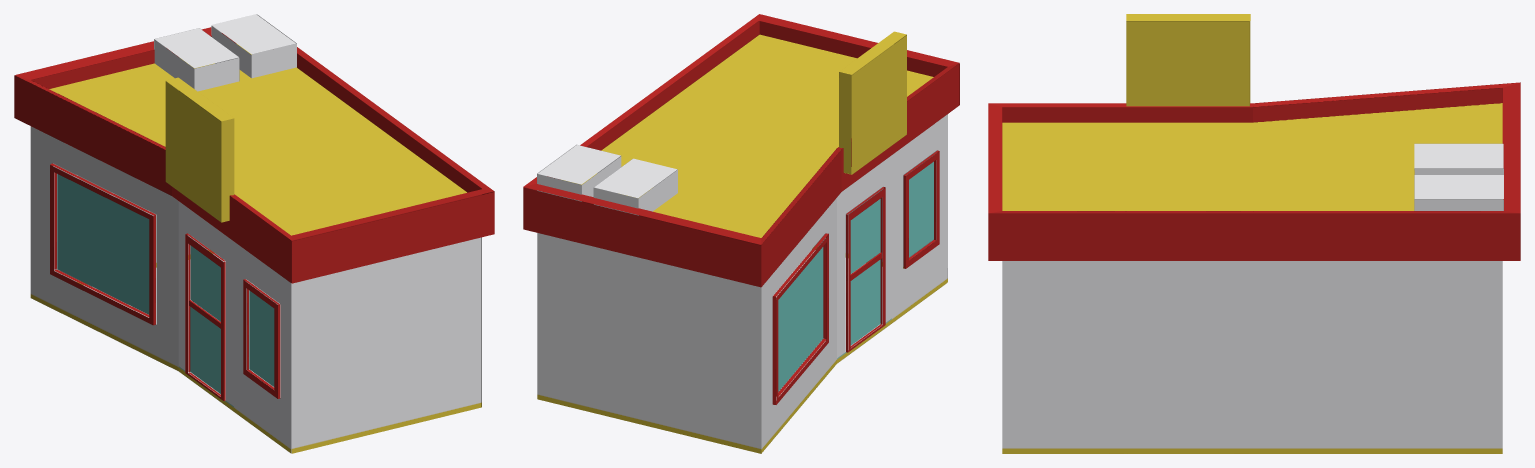
Rendered from Fast food Restaurant .fbx.
3 views of the same model, side by side, from view 1: azimuth 30°, elevation 25°; view 2: azimuth 150°, elevation 25°; view 3: azimuth 270°, elevation 25° (orthographic). The views are drawn at different scales.
Visible parts, largest first — view 1: Fast Food Restaurant building; view 2: Fast Food Restaurant building; view 3: Fast Food Restaurant building.
Boxes of the visible parts, bbox=[...] form: Fast Food Restaurant building: bbox=[14, 14, 494, 453]; Fast Food Restaurant building: bbox=[523, 14, 959, 453]; Fast Food Restaurant building: bbox=[988, 14, 1520, 453].
Size of the model in its own units: 1066 by 1247 by 1830.
3 materials, 3 textured.
